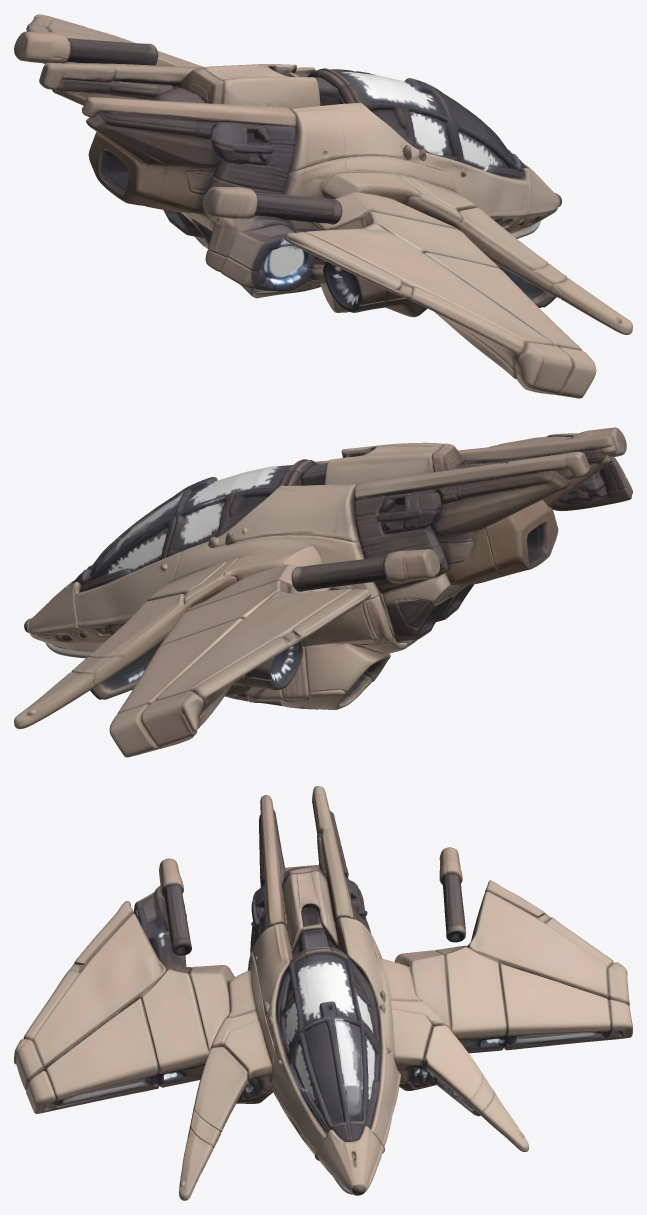
Rendered from direct.glb.
The picture shows the model from 3 angles, top to bottom: view 1: azimuth 30°, elevation 25°; view 2: azimuth 150°, elevation 25°; view 3: azimuth 270°, elevation 25°; orthographic projection. The views are drawn at different scales.
Visible parts, largest first — view 1: tripo_node_e3491775-9624-4b91-ae84-84dc12f17ea4; view 2: tripo_node_e3491775-9624-4b91-ae84-84dc12f17ea4; view 3: tripo_node_e3491775-9624-4b91-ae84-84dc12f17ea4.
Boxes of the visible parts, bbox=[...] form: tripo_node_e3491775-9624-4b91-ae84-84dc12f17ea4: bbox=[14, 14, 632, 398]; tripo_node_e3491775-9624-4b91-ae84-84dc12f17ea4: bbox=[14, 427, 632, 757]; tripo_node_e3491775-9624-4b91-ae84-84dc12f17ea4: bbox=[14, 786, 632, 1200].
Size of the model in its own units: 0.7383 by 0.4158 by 0.9801.
Materials: 1 (1 with a texture image).
